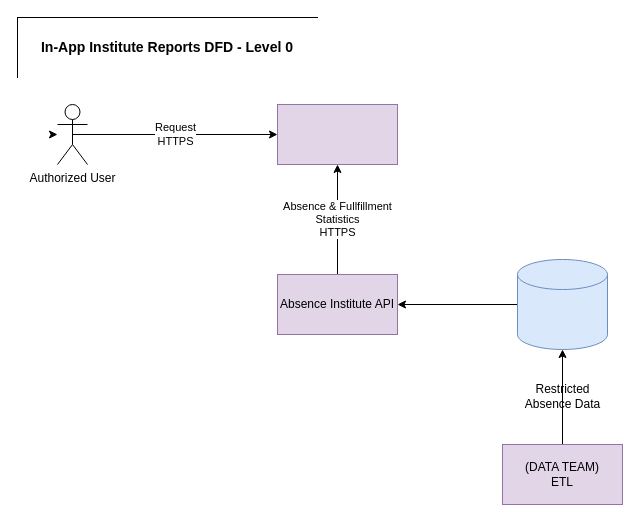
Image size: 640x522. Some labels were removed from this diagram. The centre of each missing label's shape, as x and y in pixels:
"Absence Institute Report Supersuite Module" belongs at pixel 337 134.
"Absense and Fullfillment Data Warehouse" belongs at pixel 562 304.
